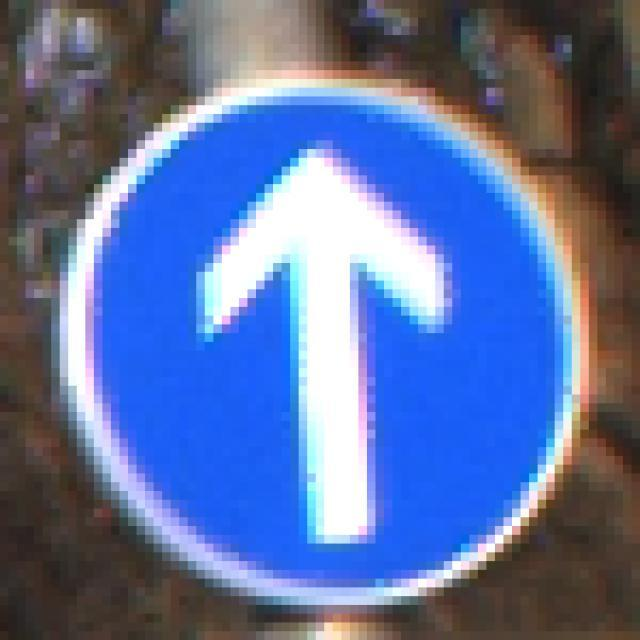compulsary ahead: (46, 69, 596, 609)
